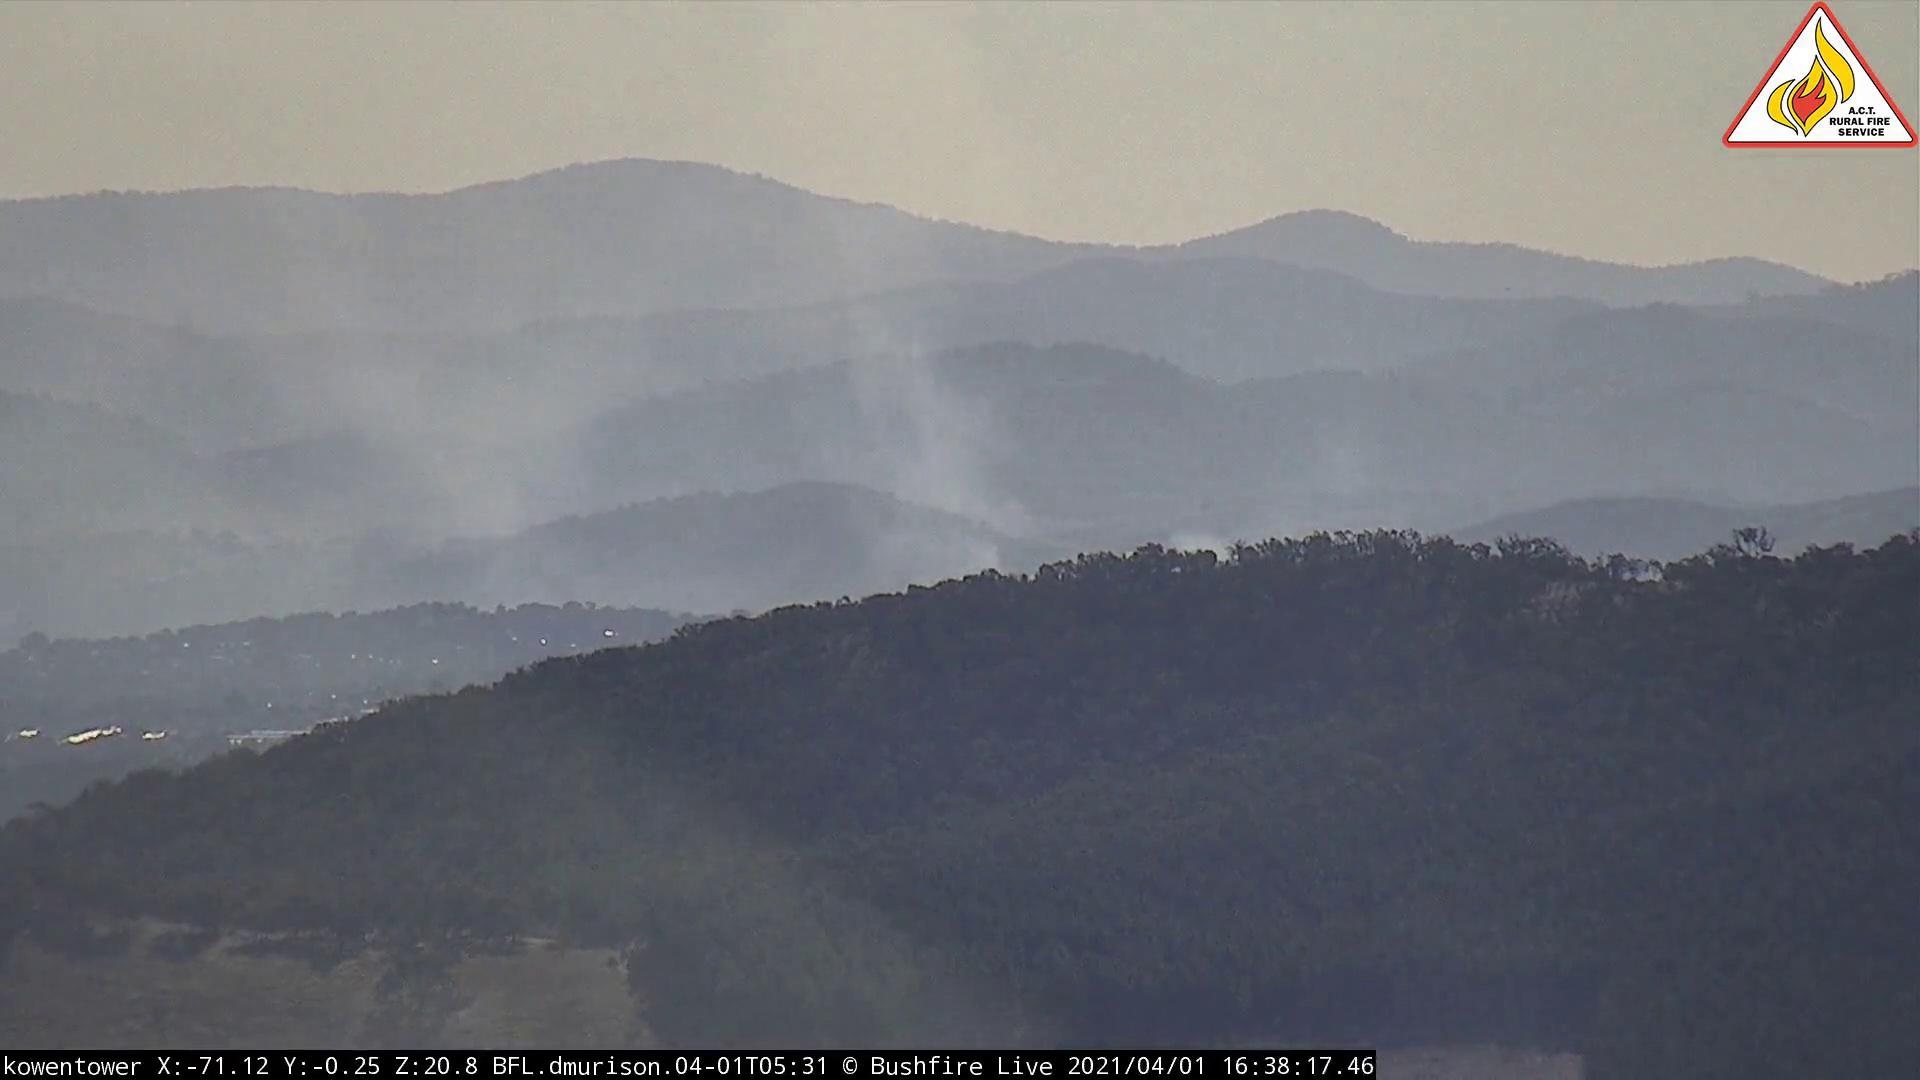Smoke: (572, 224, 1255, 658)
